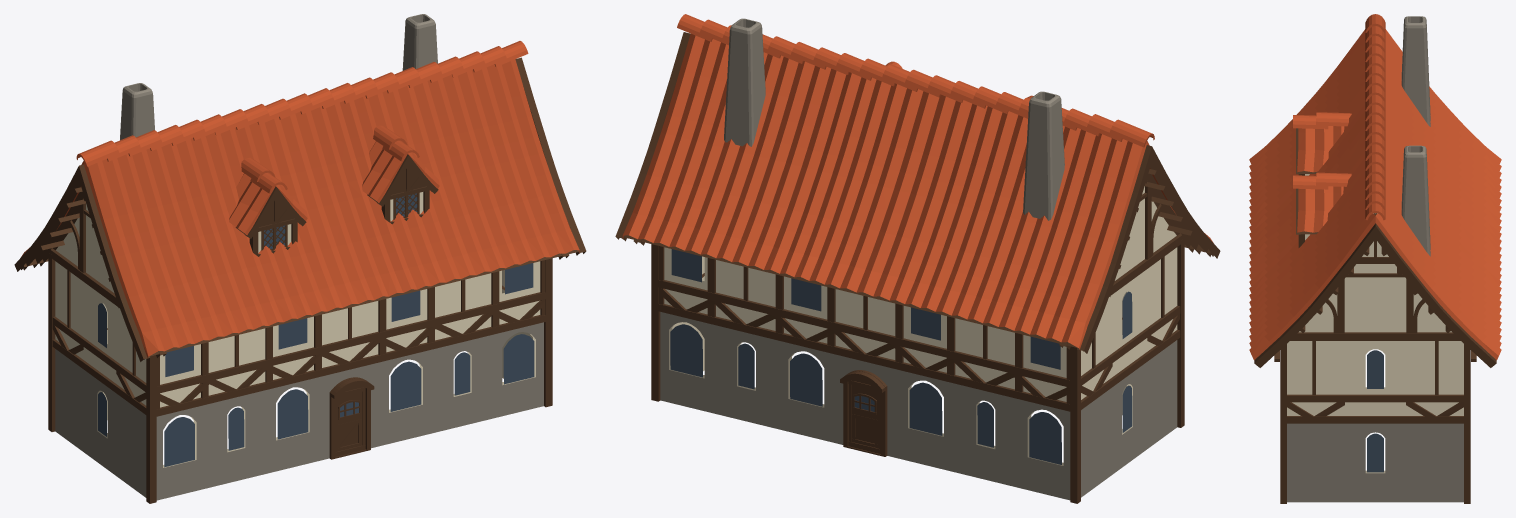
Rendered from infirmary.obj.
The picture shows the model from 3 angles, left to right: view 1: azimuth 30°, elevation 25°; view 2: azimuth 150°, elevation 25°; view 3: azimuth 270°, elevation 25°; orthographic projection. The views are drawn at different scales.
Size of the model in its own units: 15.71 by 11.8 by 8.25.
